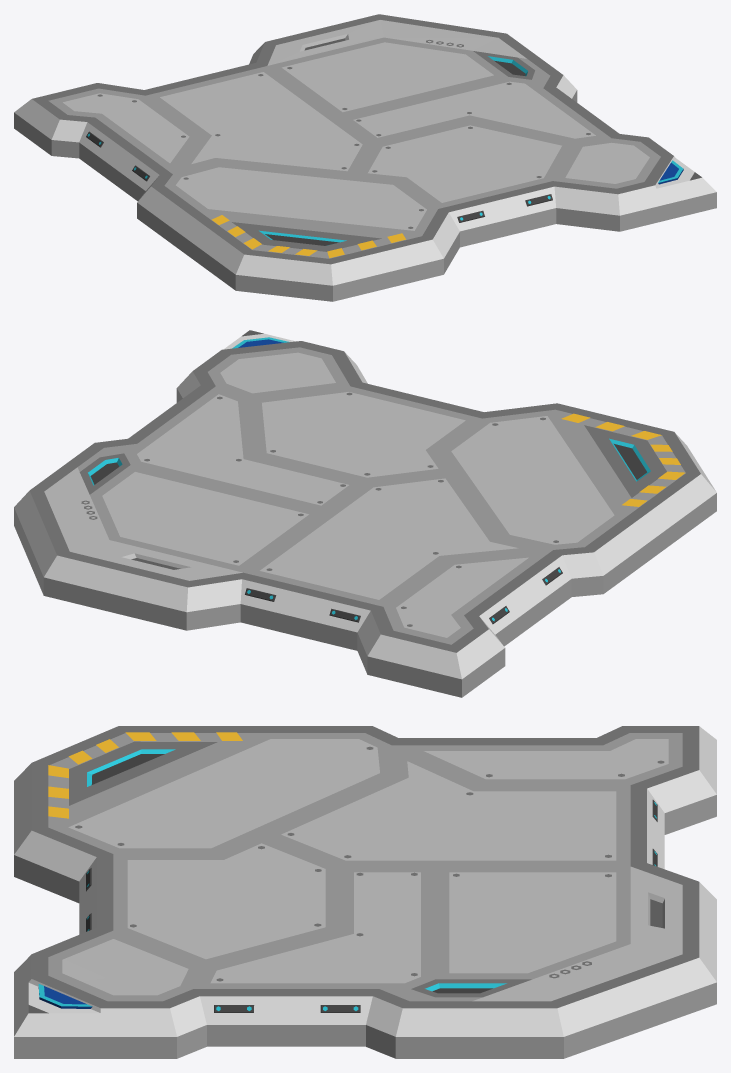
Rendered from platform_008.fbx.
3 renders of one model, top to bottom at view 1: azimuth 30°, elevation 25°; view 2: azimuth 150°, elevation 25°; view 3: azimuth 270°, elevation 25°, orthographic. The views are drawn at different scales.
Visible parts, largest first — view 1: platform_008; view 2: platform_008; view 3: platform_008.
Boxes of the visible parts, x1=… form: platform_008: x1=14, y1=14, x2=716, y2=301; platform_008: x1=14, y1=330, x2=716, y2=697; platform_008: x1=14, y1=726, x2=716, y2=1058.
Size of the model in its own units: 1481 by 1481 by 102.
